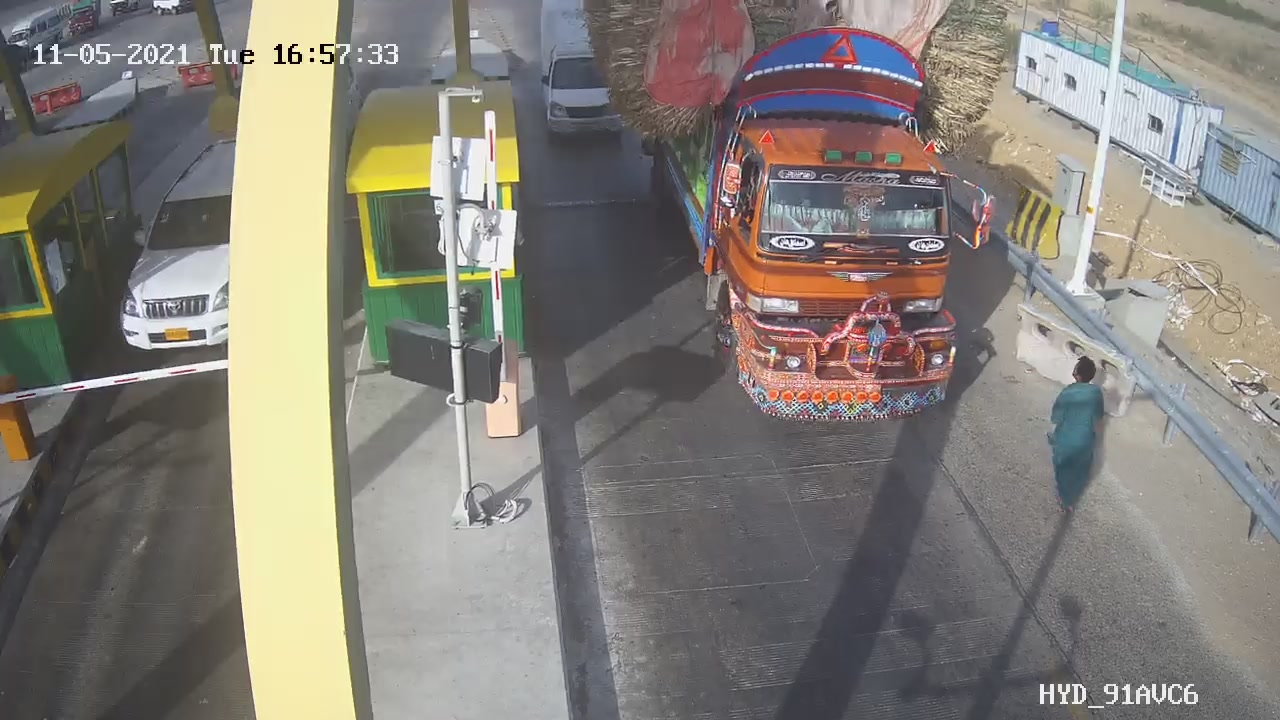F5: (621, 4, 1020, 439)
